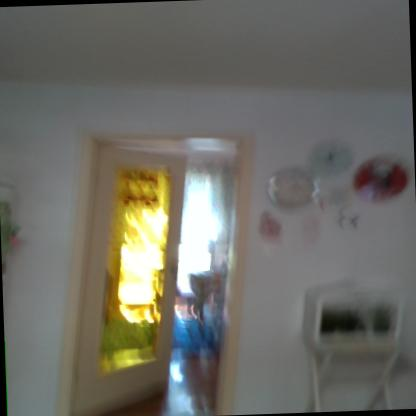semi: (74, 113, 262, 416)
